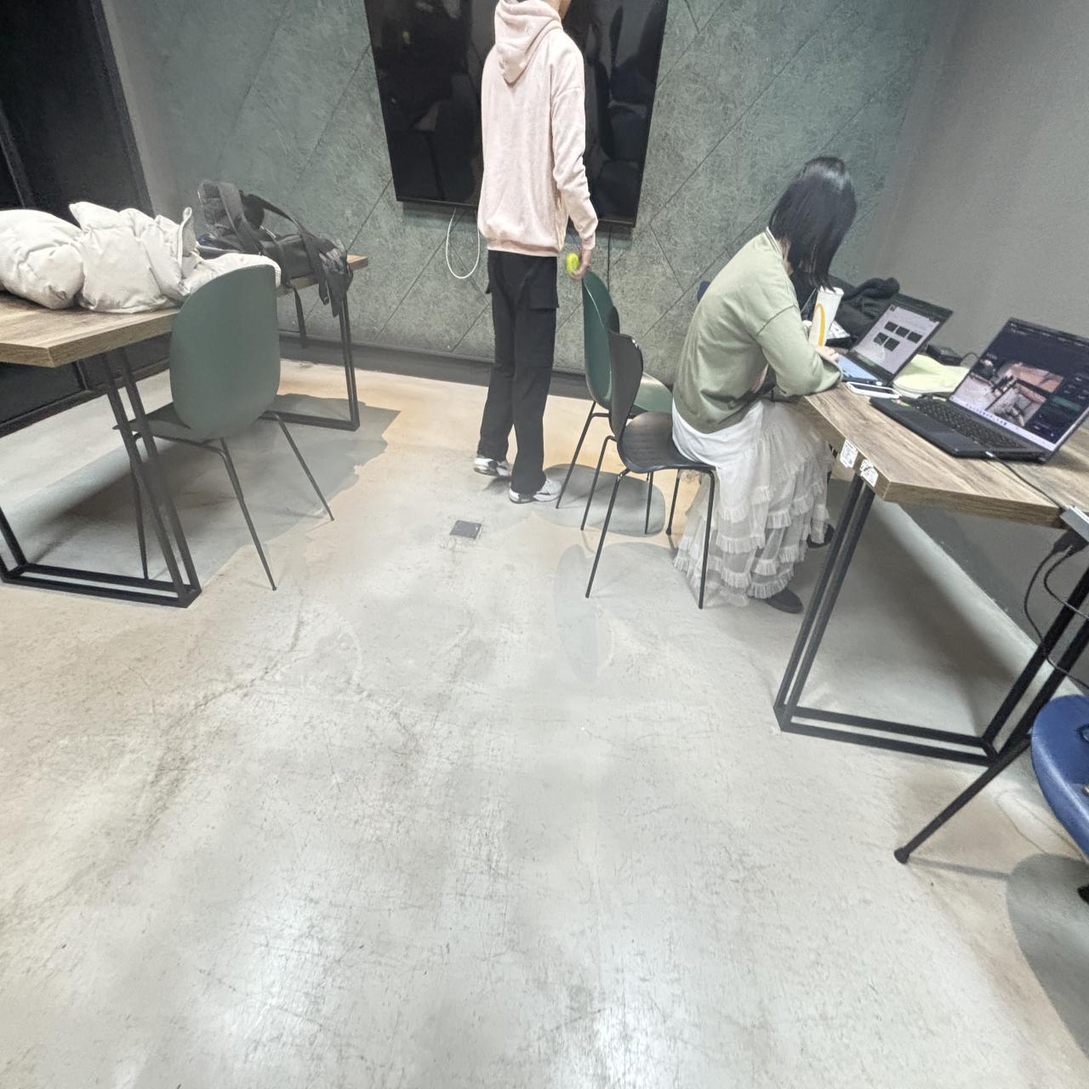person: (677, 153, 858, 613), (475, 0, 597, 502)
tennisball: (566, 253, 580, 273)
